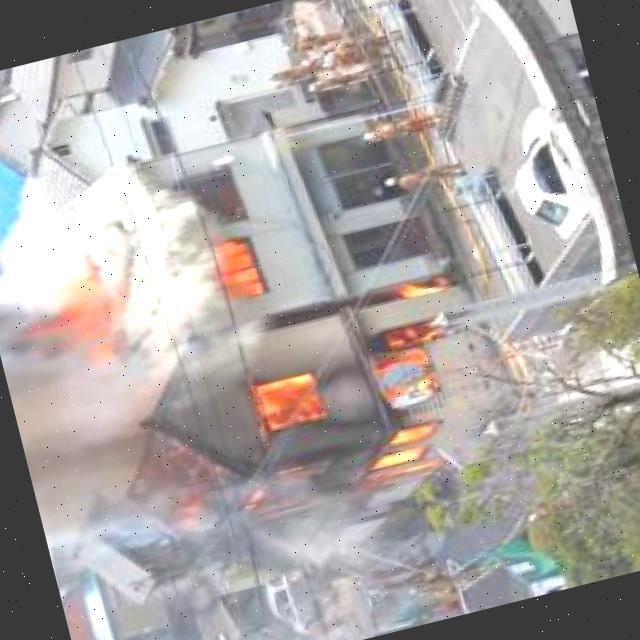fire: (192, 316, 465, 529), (22, 254, 122, 383), (209, 228, 271, 304), (374, 276, 450, 311)
